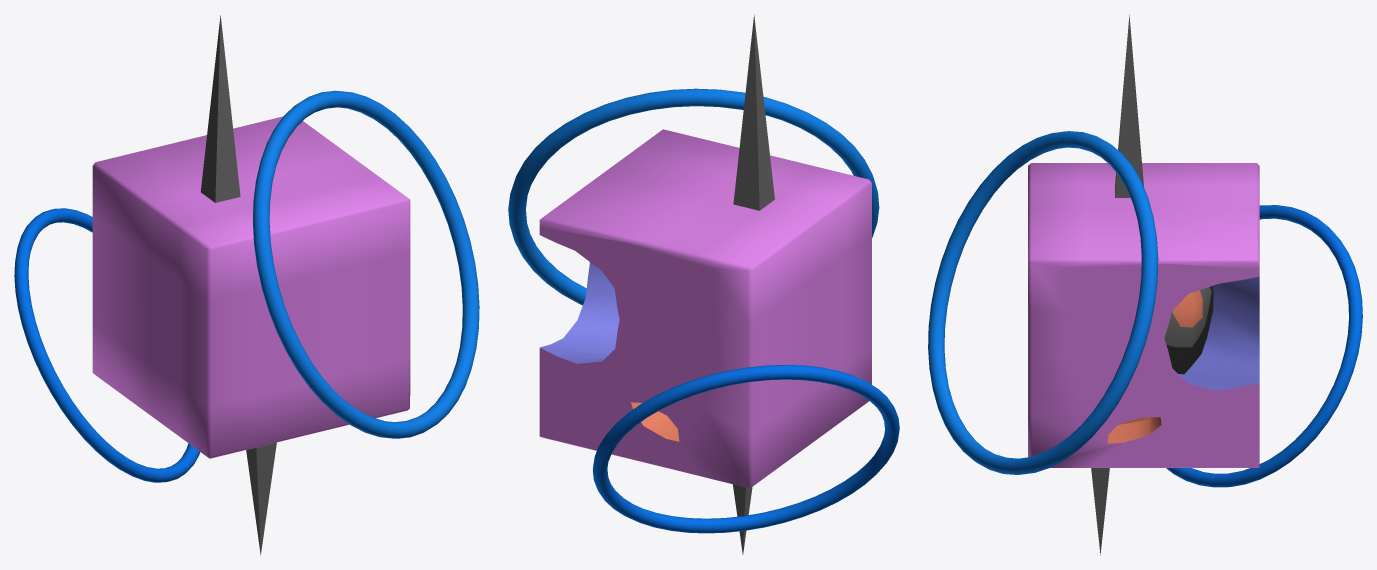
Rendered from Floating_Speaker_3.fbx.
3 renders of one model, left to right at view 1: azimuth 30°, elevation 25°; view 2: azimuth 150°, elevation 25°; view 3: azimuth 270°, elevation 25°, orthographic. The views are drawn at different scales.
Visible parts, largest first — view 1: Cube.001, Torus.001, Torus; view 2: Cube.001, Torus, Torus.001; view 3: Cube.001, Torus.001, Torus.
Part boxes in pixels (x1,y1,x2,y2): Cube.001: [92, 15, 410, 555]; Torus.001: [253, 90, 479, 438]; Torus: [14, 208, 200, 482]; Cube.001: [539, 14, 871, 554]; Torus: [592, 364, 899, 533]; Torus.001: [508, 88, 879, 305]; Cube.001: [1028, 14, 1259, 555]; Torus.001: [928, 131, 1158, 474]; Torus: [1166, 205, 1362, 487].
Size of the model in its own units: 393 by 505 by 375.
